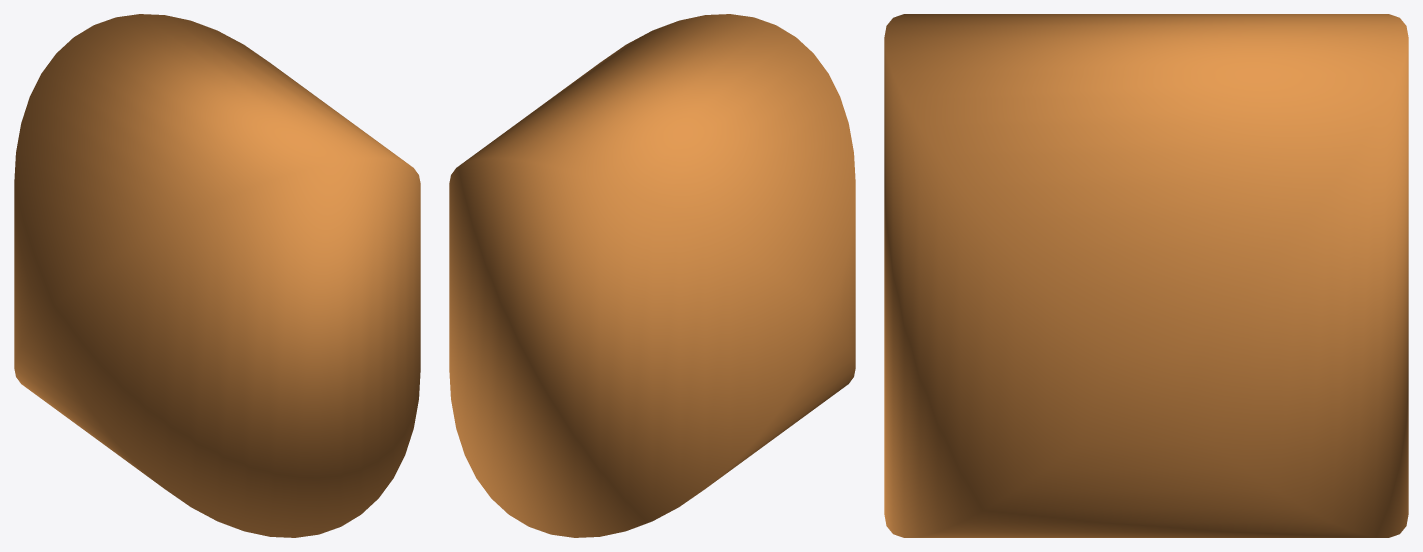
Rendered from expected.gltf.
3 renders of one model, left to right at view 1: azimuth 30°, elevation 25°; view 2: azimuth 150°, elevation 25°; view 3: azimuth 270°, elevation 25°, orthographic. The views are drawn at different scales.
Size of the model in its own units: 20 by 20 by 20.
